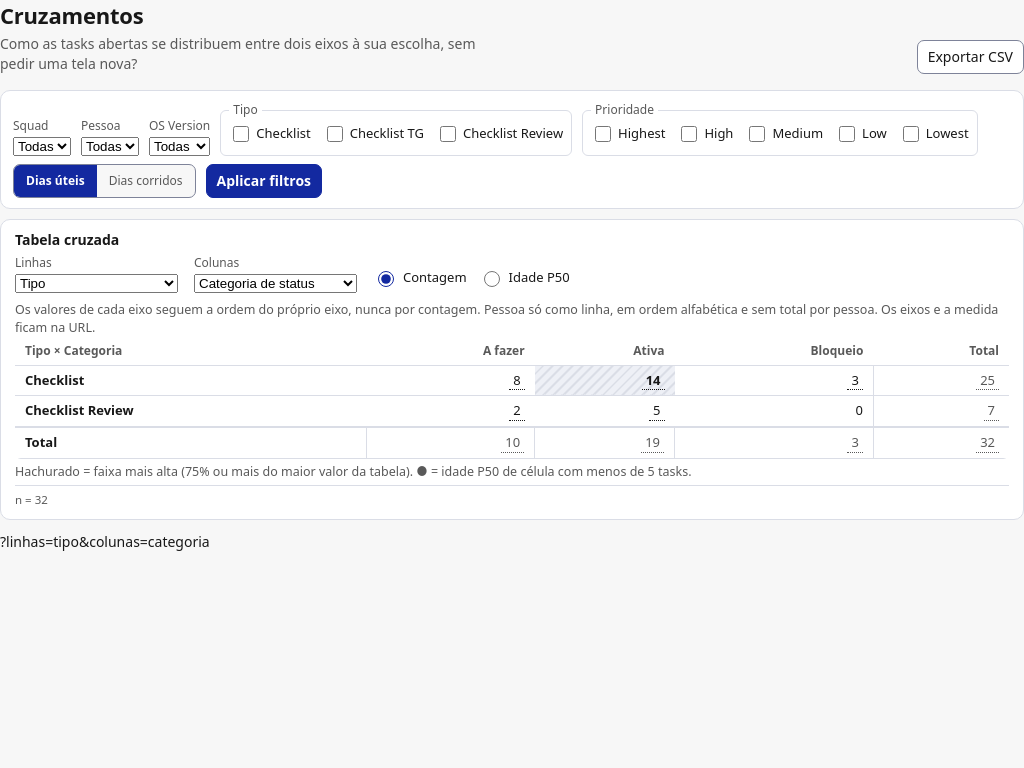
Test case: aba Cruzamentos › celulaAbreAsTasksDoSegmentoPosicionalComOsMesmosEixos
The width and height of the screenshot is (1024, 768).
Click the button named "Checklist × Ativa: 14".
click(653, 380)  # box [642,370,665,390]
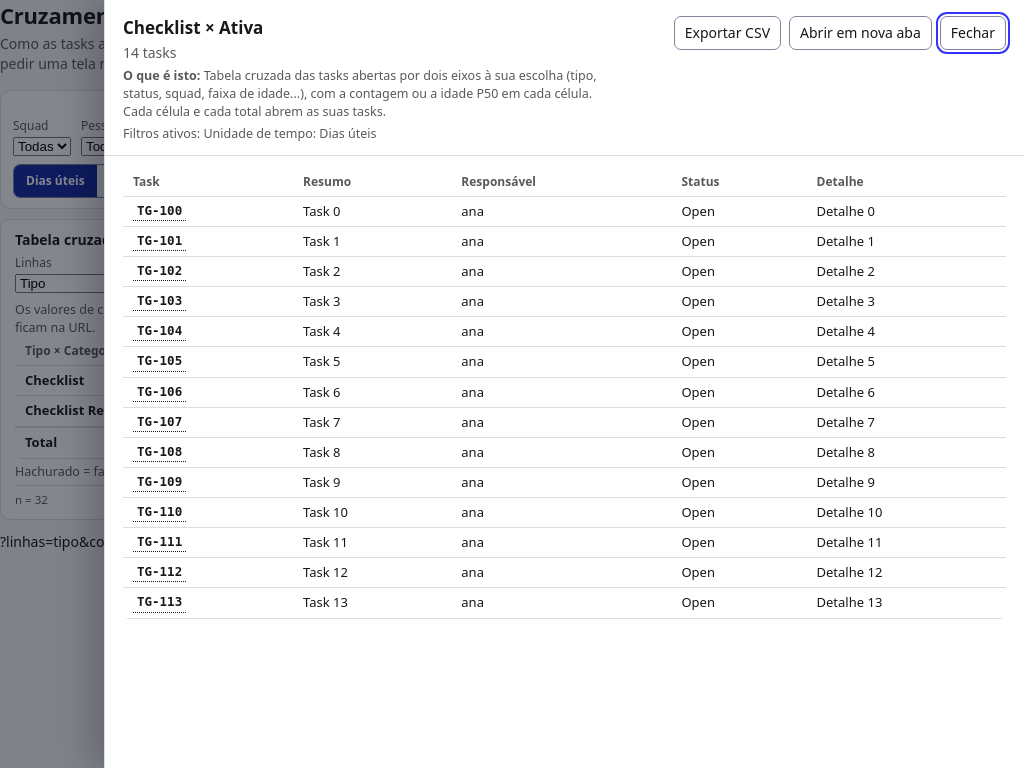
expect the dialog is shown: met
